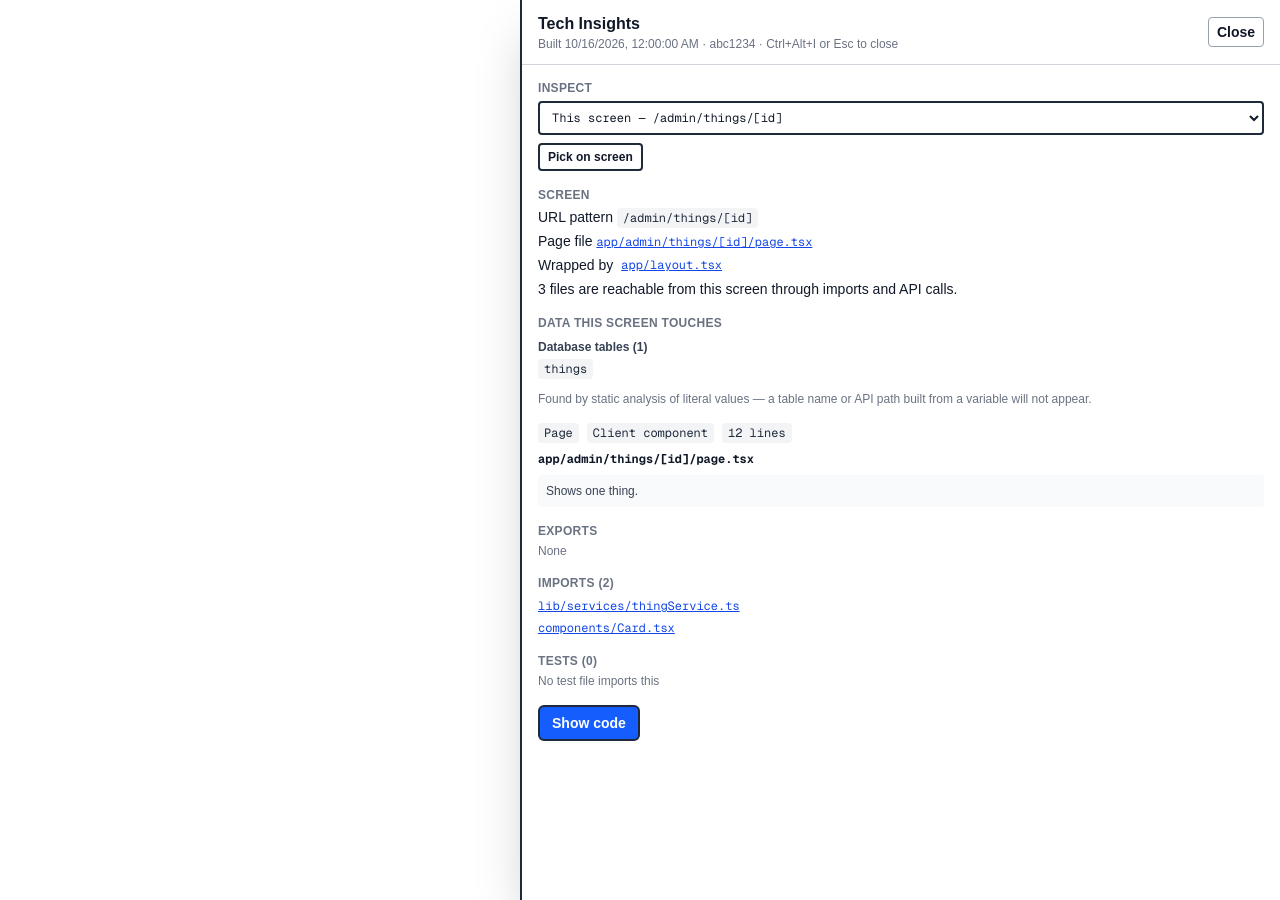
Test: TechInsightsPanel › lists reachable files in the drop-down and shows details when one is picked
This screenshot has width=1280, height=900.
Expected: the text "/admin/things/[id]" is shown, [617, 208, 758, 228]
Select "lib/services/thingService.ts" in the dropdown at (901, 118), box [538, 101, 1264, 135]
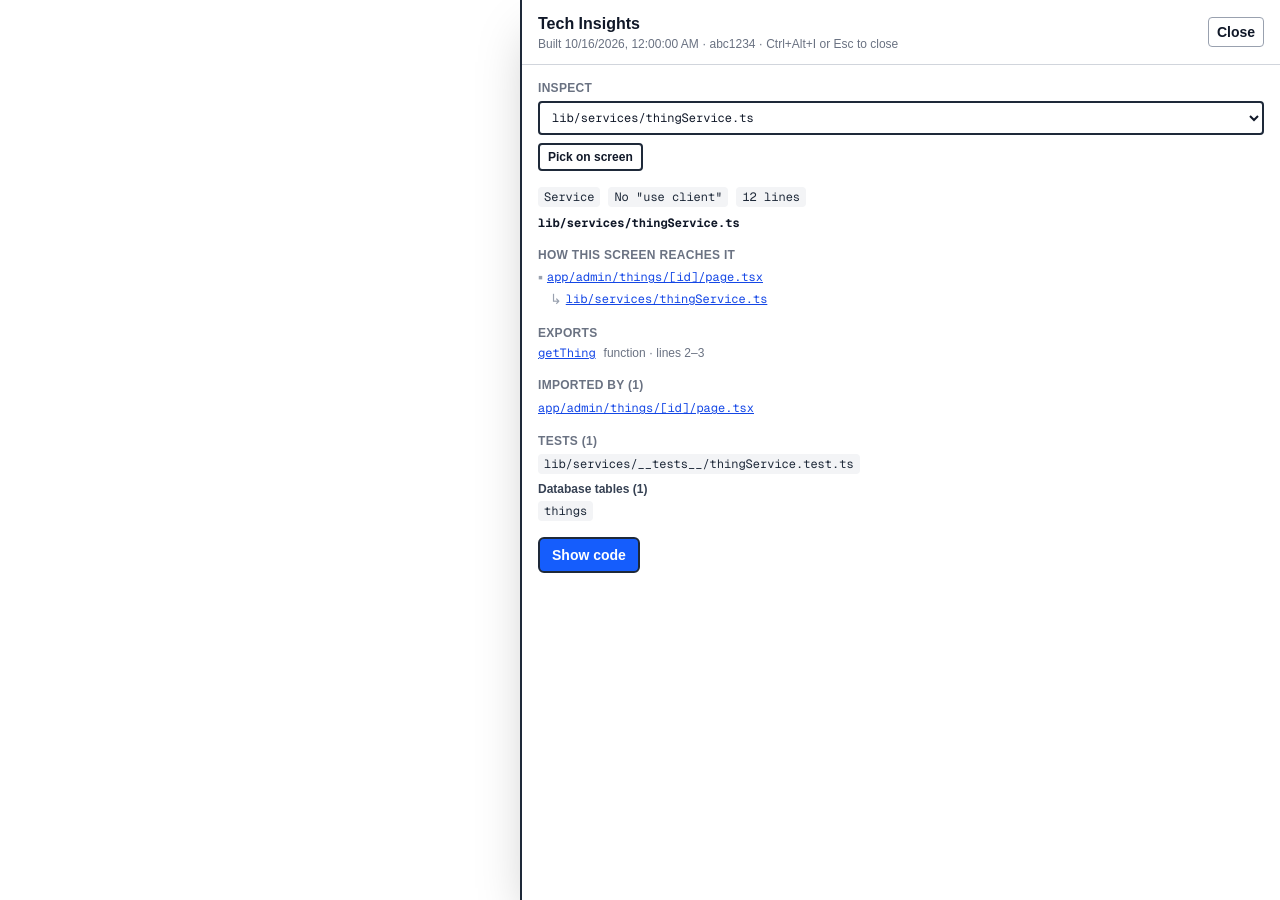
Expected: the text "How this screen reaches it" is shown, [538, 248, 735, 262]
Expected: the button "getThing" is shown, [538, 345, 596, 361]
Expected: the text "lib/services/__tests__/thingService.test.ts" is shown, [538, 454, 860, 474]
